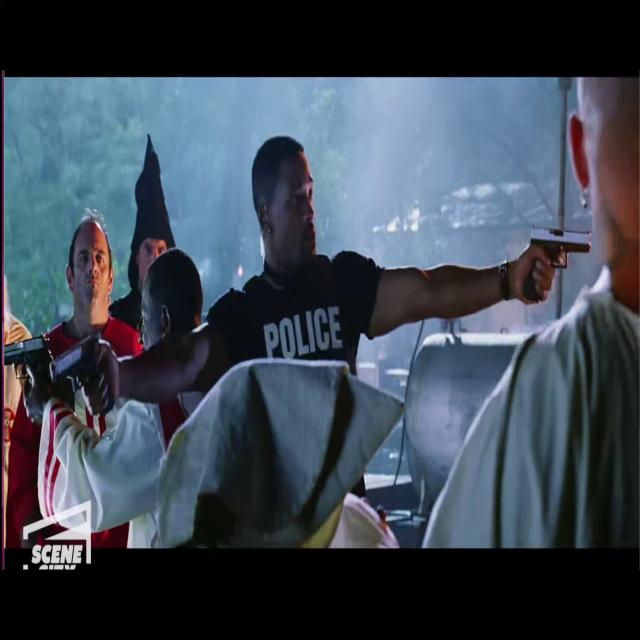weapons: (515, 219, 601, 315), (46, 320, 122, 427)
